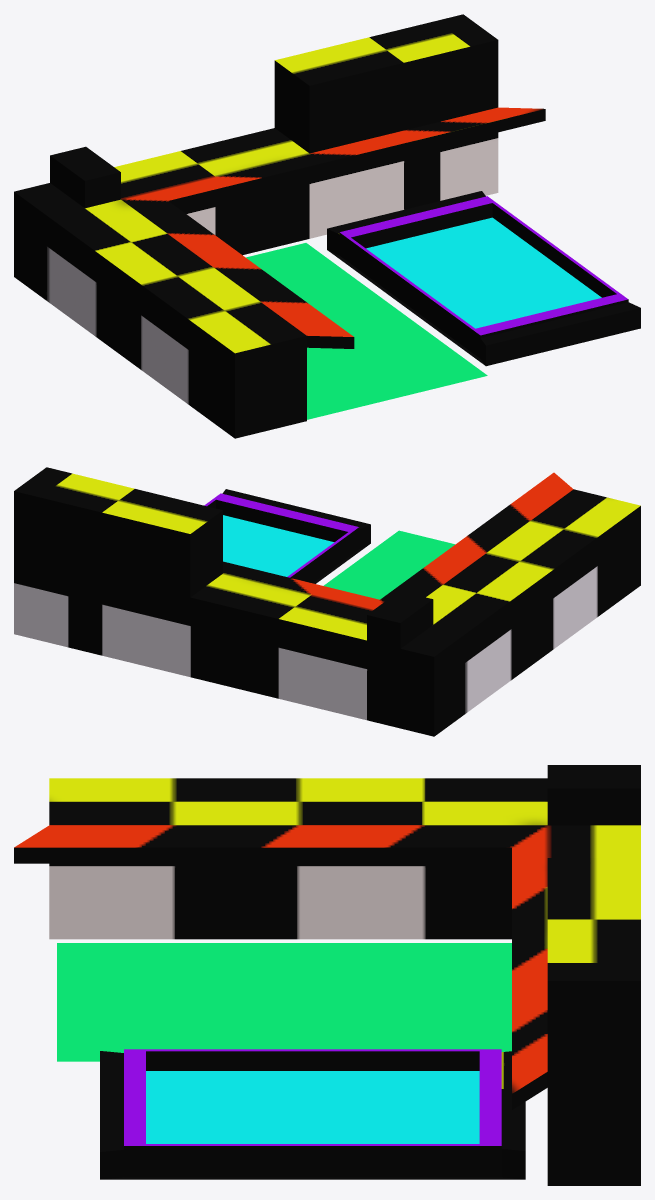
The model's file is house 2 do 13 .fbx.
The picture shows the model from 3 angles, top to bottom: view 1: azimuth 30°, elevation 25°; view 2: azimuth 150°, elevation 25°; view 3: azimuth 270°, elevation 25°; orthographic projection. The views are drawn at different scales.
Parts seen in each view (by area): view 1: Cube; view 2: Cube; view 3: Cube.
Boxes of the visible parts, x1,y1,x2,y2 form: Cube: (14,14,640,438); Cube: (14,467,640,736); Cube: (14,765,640,1185).
Bounding box in the file's own units: 2382 × 754 × 1998.
